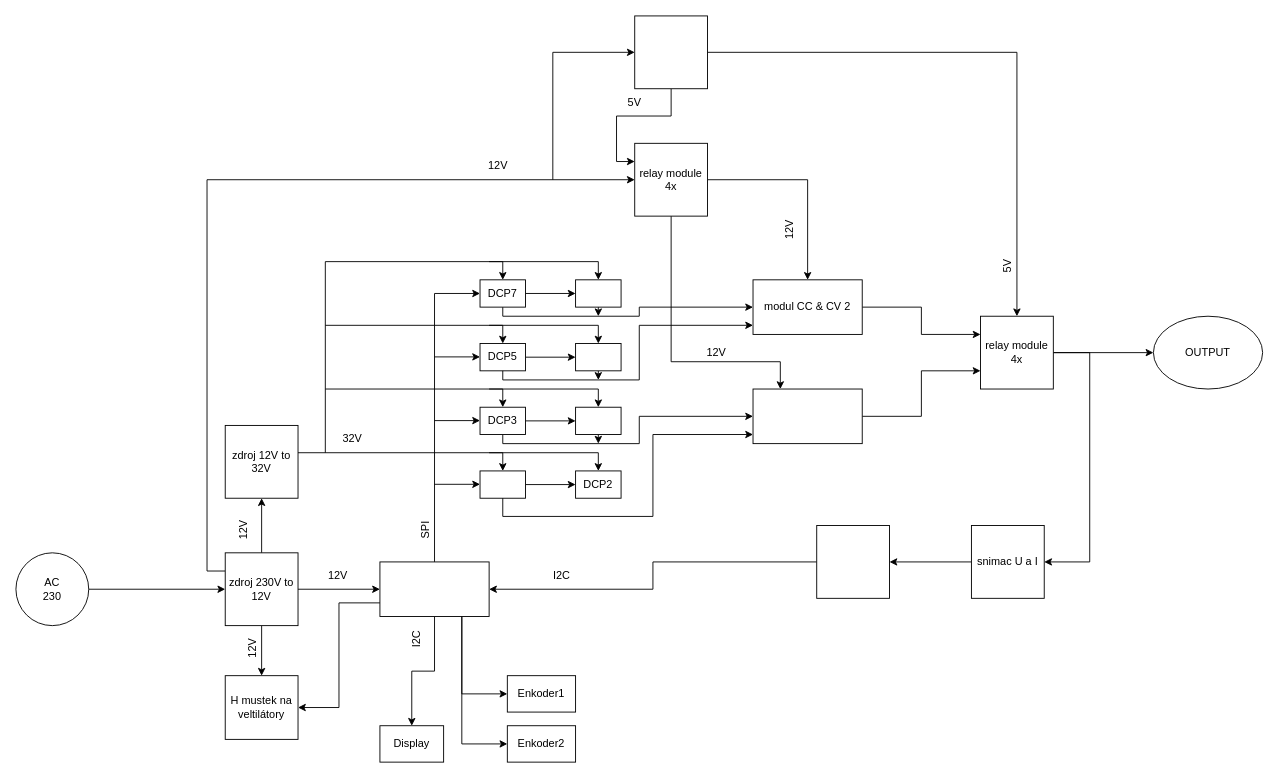
Image size: 1279x778. Some labels were removed from this diagram. The centre of each missing label's shape, as x and y in pixels:
ADC: point (853, 561)
DCP1: point (502, 484)
DCP4: point (598, 420)
DCP6: point (598, 357)
DCP8: point (598, 293)
Mikrokontroler: point (434, 589)
modul CC & CV 1: point (807, 416)
zdroj 12V to 5 V: point (671, 52)
